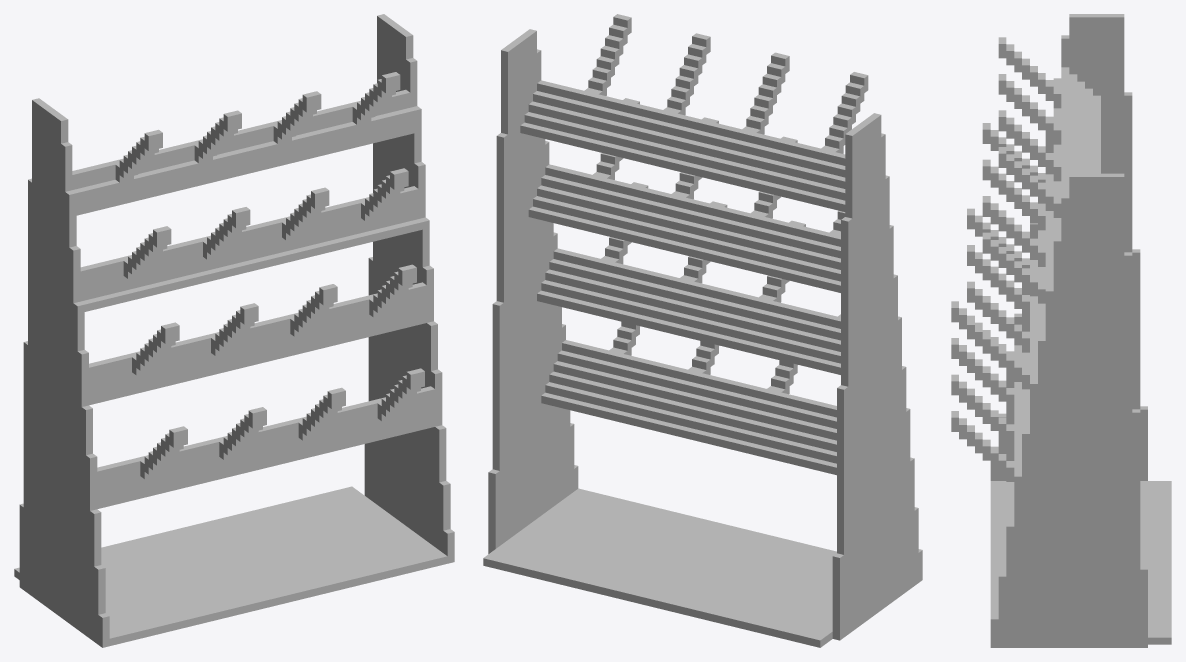
File: Shelf3.fbx
3 renders of one model, left to right at view 1: azimuth 30°, elevation 25°; view 2: azimuth 150°, elevation 25°; view 3: azimuth 270°, elevation 25°, orthographic. The views are drawn at different scales.
Visible parts, largest first — view 1: Shelf3.001, Shelf3; view 2: Shelf3.001, Shelf3; view 3: Shelf3.001, Shelf3.
Part boxes in pixels (x1,y1,x2,y2): Shelf3.001: [19, 14, 454, 647]; Shelf3: [14, 486, 447, 645]; Shelf3.001: [488, 14, 922, 640]; Shelf3: [483, 488, 836, 647]; Shelf3.001: [951, 14, 1147, 647]; Shelf3: [990, 481, 1171, 644].
Size of the model in its own units: 4.9 by 6.6 by 2.8.
